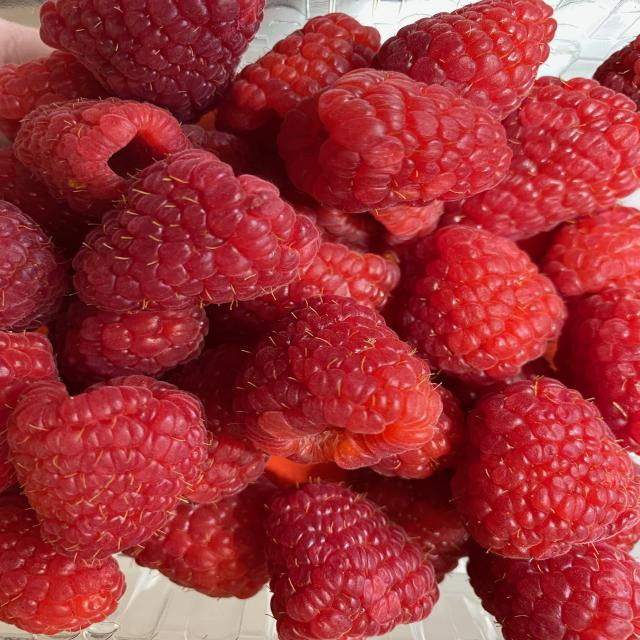raspberries: (19, 11, 634, 634)
